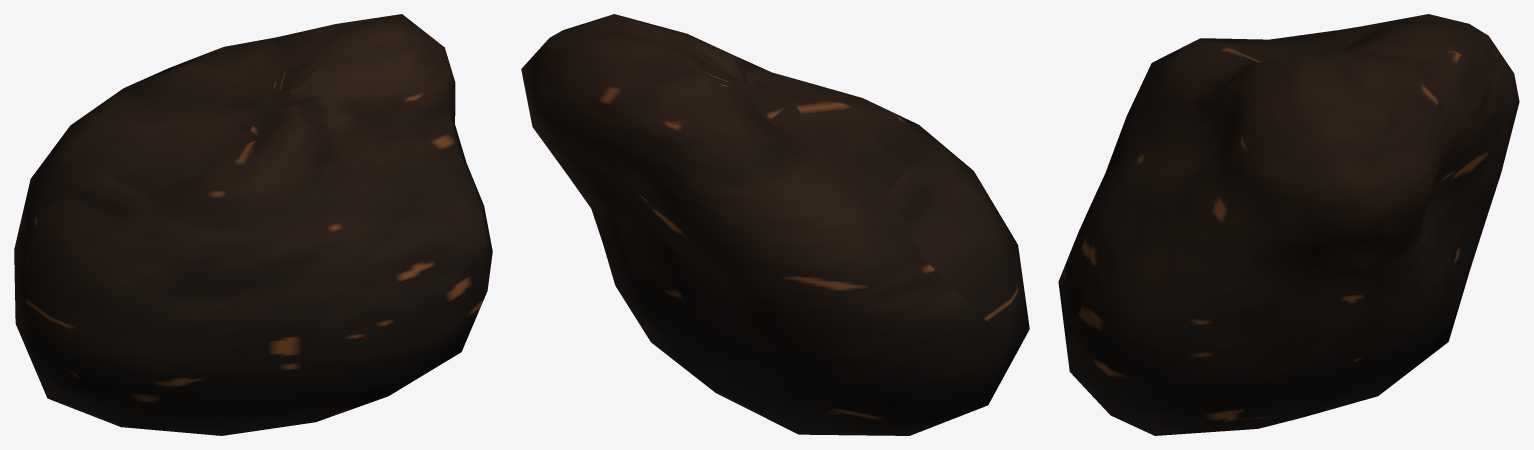
The model's file is chagaitem.glb.
The picture shows the model from 3 angles, left to right: view 1: azimuth 30°, elevation 25°; view 2: azimuth 150°, elevation 25°; view 3: azimuth 270°, elevation 25°; orthographic projection. The views are drawn at different scales.
Visible parts, largest first — view 1: chagaitem; view 2: chagaitem; view 3: chagaitem.
Part boxes in pixels (x1,y1,x2,y2): chagaitem: [14, 14, 492, 435]; chagaitem: [521, 14, 1029, 435]; chagaitem: [1058, 14, 1519, 435].
Bounding box in the file's own units: 0.1305 × 0.0957 × 0.0942.
Materials: 1 (1 with a texture image).
